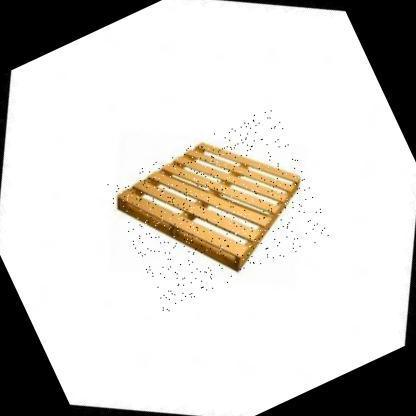pallet: (111, 136, 305, 276)
